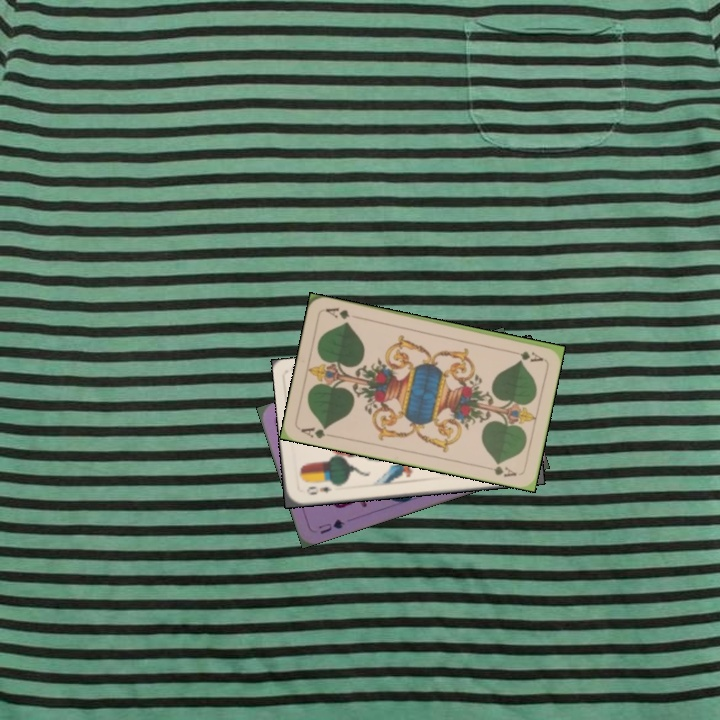EO: (302, 482, 334, 498)
GA: (297, 422, 337, 441), (506, 346, 546, 364)
GU: (314, 515, 347, 537)
